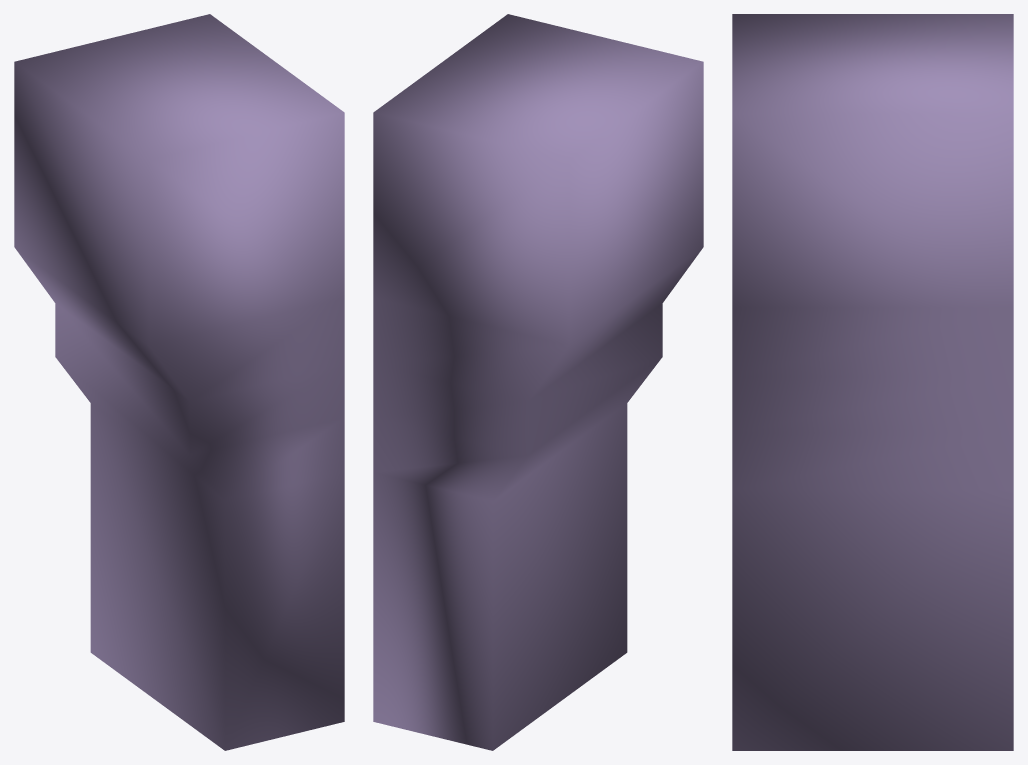
Rendered from Wall_Orn_01_Up.fbx.
The picture shows the model from 3 angles, left to right: view 1: azimuth 30°, elevation 25°; view 2: azimuth 150°, elevation 25°; view 3: azimuth 270°, elevation 25°; orthographic projection. The views are drawn at different scales.
Visible parts, largest first — view 1: Wall_Orn_01_Up; view 2: Wall_Orn_01_Up; view 3: Wall_Orn_01_Up.
Boxes of the visible parts, box(x1,y1,x2,y2) form: Wall_Orn_01_Up: box(14, 14, 344, 750); Wall_Orn_01_Up: box(373, 14, 703, 750); Wall_Orn_01_Up: box(732, 14, 1013, 750).
Bounding box in the file's own units: 50.37 × 150 × 60.
